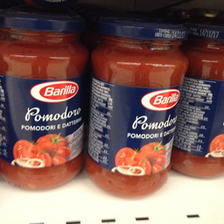tomato_sauce: (86, 22, 191, 201), (1, 16, 89, 192)
